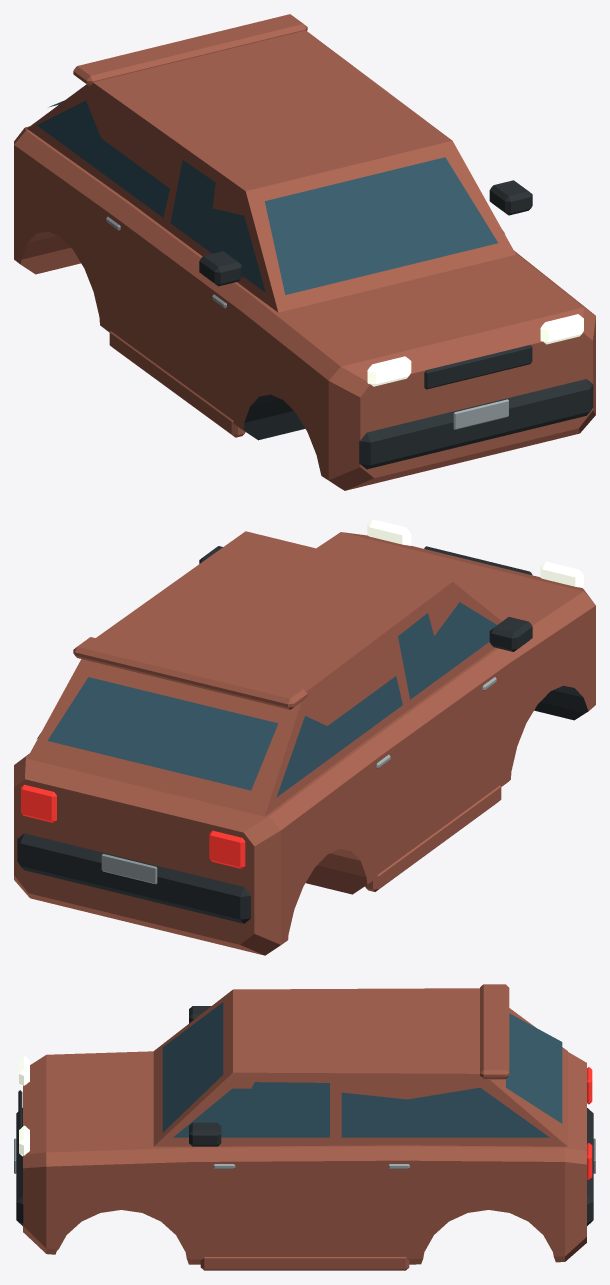
Rendered from hatchback.glb.
The picture shows the model from 3 angles, top to bottom: view 1: azimuth 30°, elevation 25°; view 2: azimuth 150°, elevation 25°; view 3: azimuth 270°, elevation 25°; orthographic projection. The views are drawn at different scales.
Visible parts, largest first — view 1: BODY_Hatchback; view 2: BODY_Hatchback; view 3: BODY_Hatchback.
Part boxes in pixels (bbox=[...]): BODY_Hatchback: bbox=[14, 14, 595, 490]; BODY_Hatchback: bbox=[14, 519, 595, 955]; BODY_Hatchback: bbox=[14, 984, 595, 1270].
Bounding box in the file's own units: 2.06 × 1.44 × 3.96.
